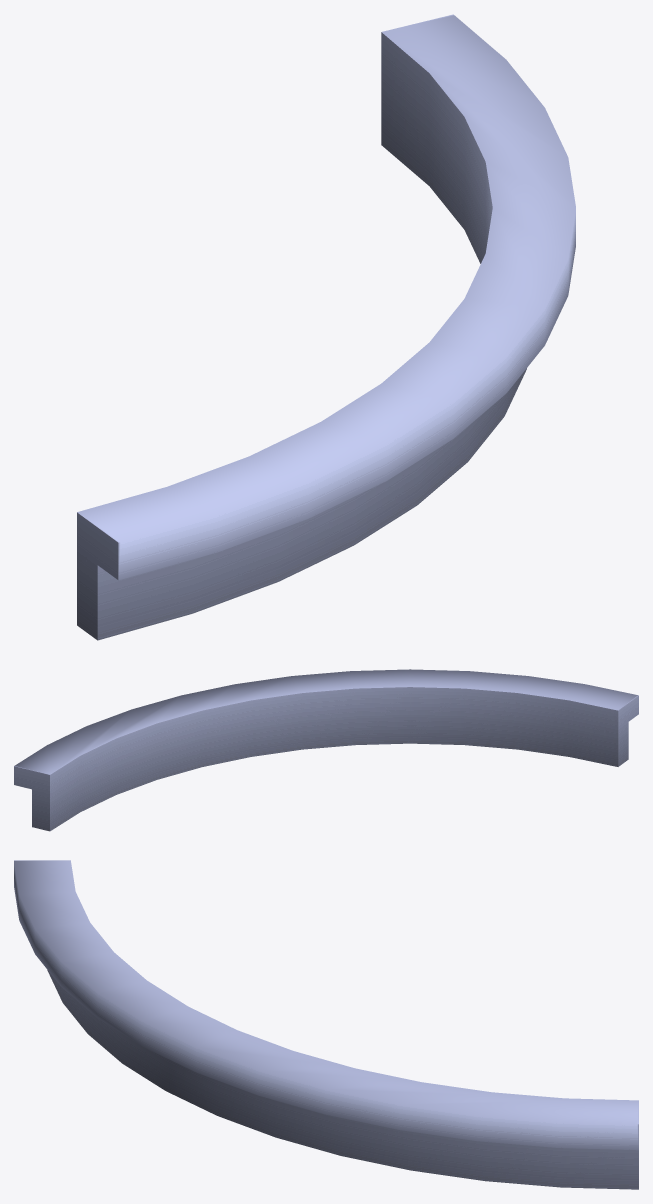
The model's file is border-corner-round.glb.
3 renders of one model, top to bottom at view 1: azimuth 30°, elevation 25°; view 2: azimuth 150°, elevation 25°; view 3: azimuth 270°, elevation 25°, orthographic. The views are drawn at different scales.
Visible parts, largest first — view 1: border-corner-round; view 2: border-corner-round; view 3: border-corner-round.
Boxes of the visible parts, x1=… form: border-corner-round: x1=77, y1=14, x2=575, y2=640; border-corner-round: x1=14, y1=669, x2=638, y2=831; border-corner-round: x1=14, y1=860, x2=638, y2=1189.
Size of the model in its own units: 2.2 by 0.3 by 2.2.
Materials: 1 (1 with a texture image).
